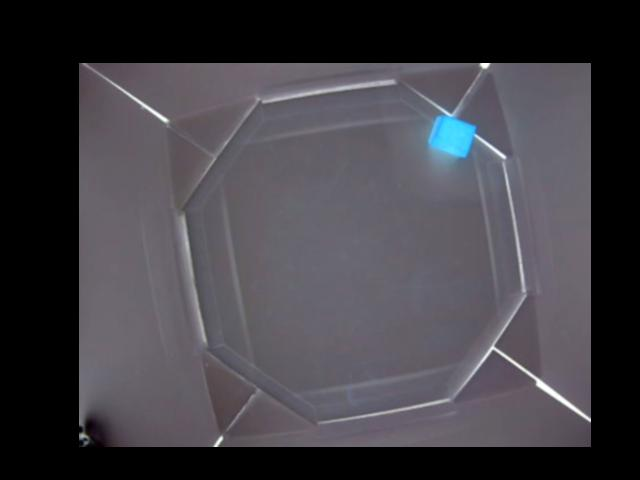Carrot: (430, 114, 476, 158)
